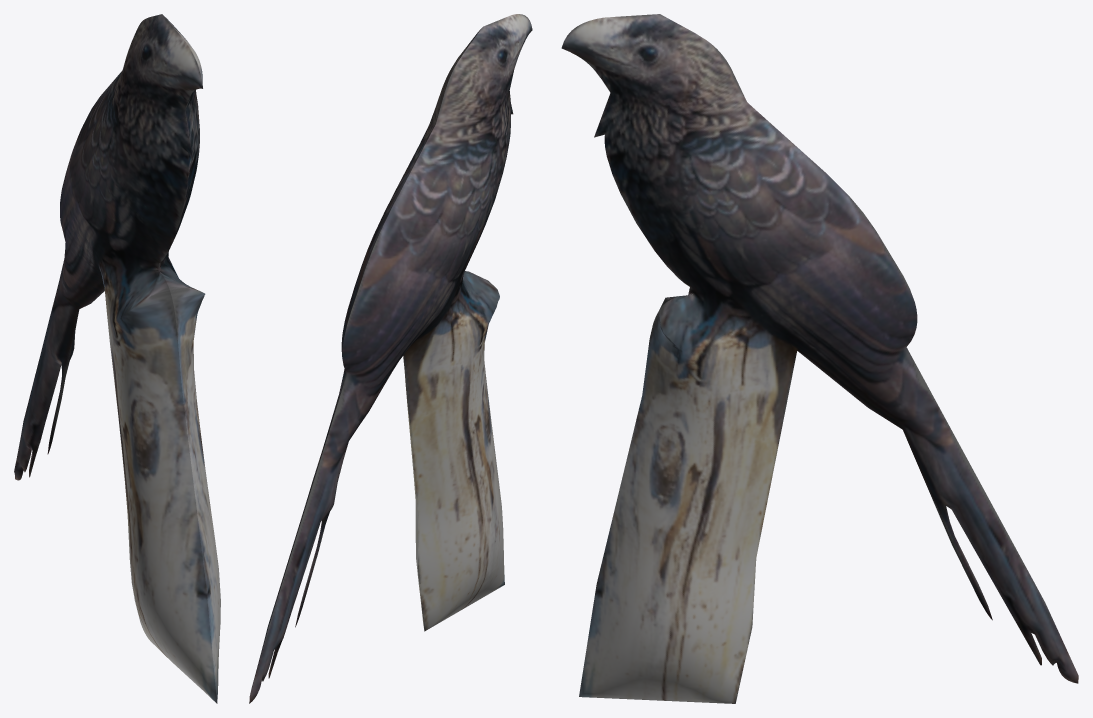
The picture shows the model from 3 angles, left to right: view 1: azimuth 30°, elevation 25°; view 2: azimuth 150°, elevation 25°; view 3: azimuth 270°, elevation 25°; orthographic projection. The views are drawn at different scales.
Parts seen in each view (by area): view 1: node1; view 2: node1; view 3: node1.
Part boxes in pixels (x1=…): node1: x1=14, y1=14, x2=220, y2=703; node1: x1=249, y1=14, x2=532, y2=703; node1: x1=561, y1=14, x2=1078, y2=703.
Bounding box in the file's own units: 0.2503 × 1.71 × 1.19.
Materials: 1 (1 with a texture image).
